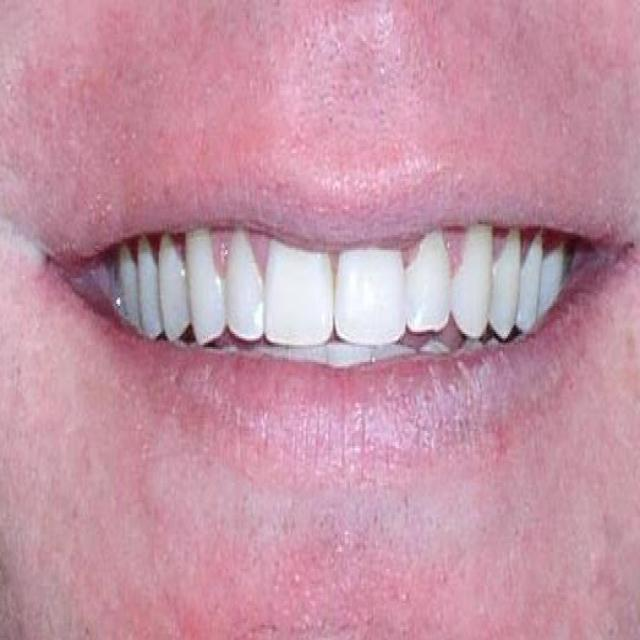tooth: (261, 228, 328, 326), (338, 244, 390, 328), (215, 254, 261, 326), (443, 248, 486, 325), (105, 248, 141, 334), (404, 248, 443, 327), (158, 254, 187, 340), (489, 235, 516, 327), (193, 254, 216, 345), (520, 250, 536, 325), (141, 265, 155, 334), (542, 246, 558, 288)
